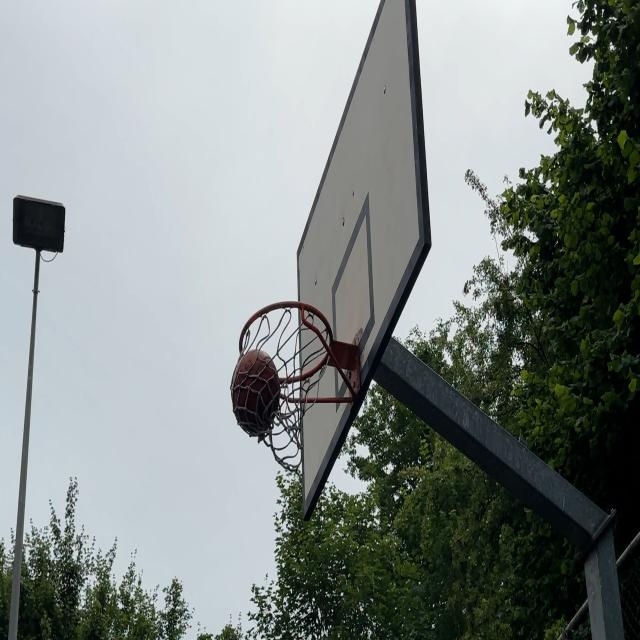rebound_hit: (231, 350, 280, 432)
